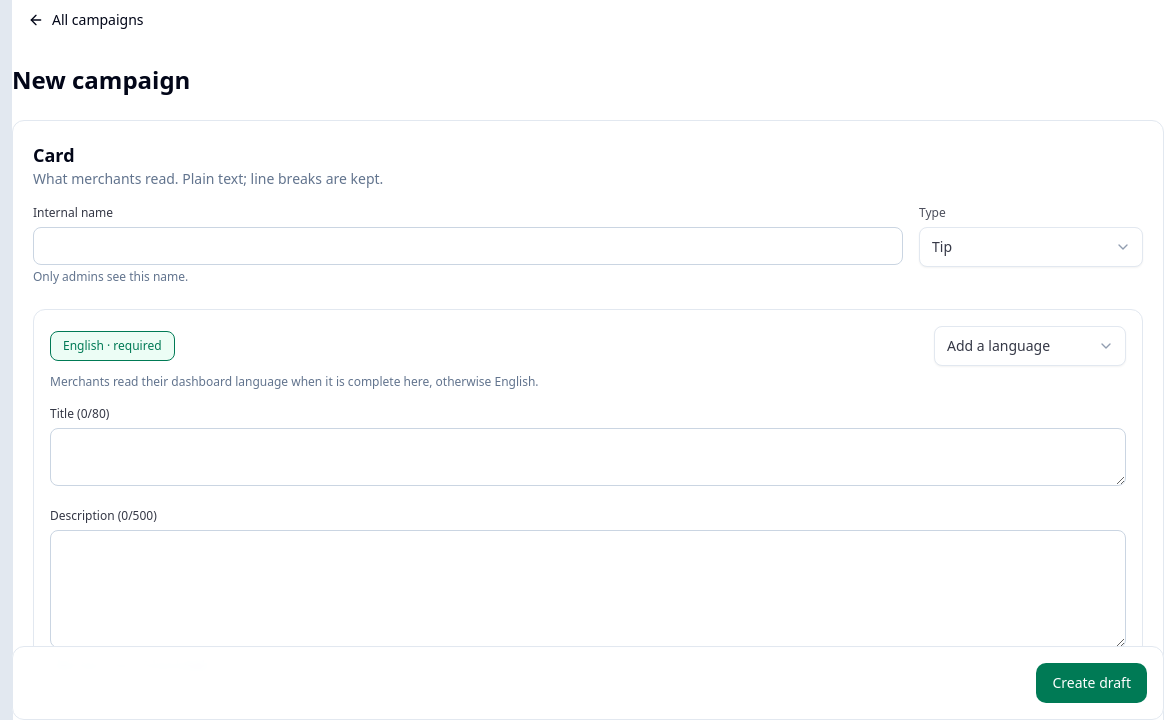
Test: Tips campaign editor › shows field errors instead of saving an incomplete campaign
Click the button "Create draft" at (1092, 683), box [1036,663,1147,703]
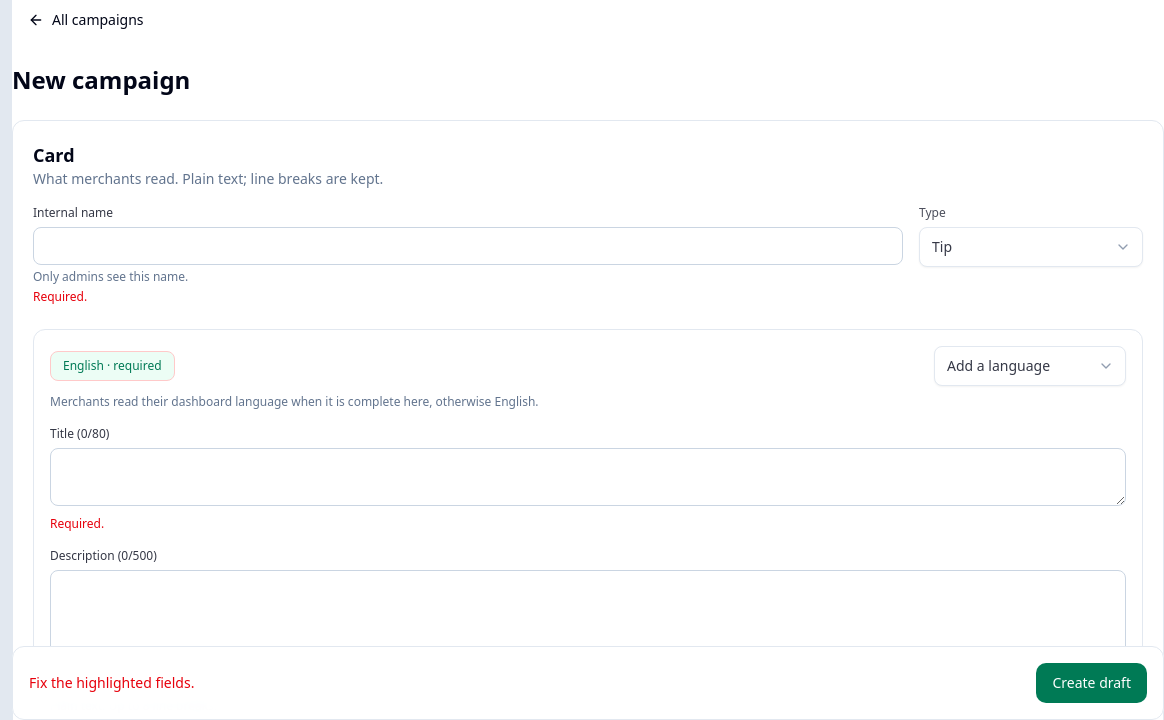
Result: the text "Fix the highlighted fields." is shown at [29,673,194,693]
